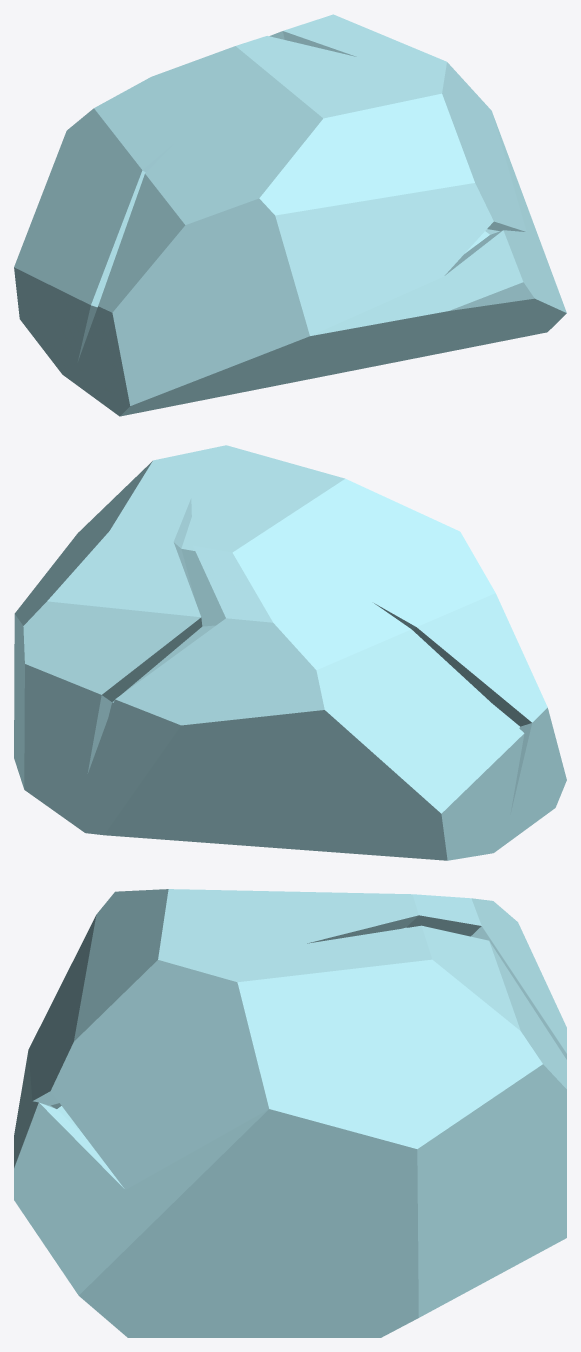
Rendered from Stone 16.fbx.
3 views of the same model, one above another, from view 1: azimuth 30°, elevation 25°; view 2: azimuth 150°, elevation 25°; view 3: azimuth 270°, elevation 25° (orthographic). The views are drawn at different scales.
Visible parts, largest first — view 1: Stone 16; view 2: Stone 16; view 3: Stone 16.
Part boxes in pixels (x1,y1,x2,y2): Stone 16: (14,14,566,416); Stone 16: (14,445,566,860); Stone 16: (14,889,566,1337).
Size of the model in its own units: 215 by 128 by 200.
